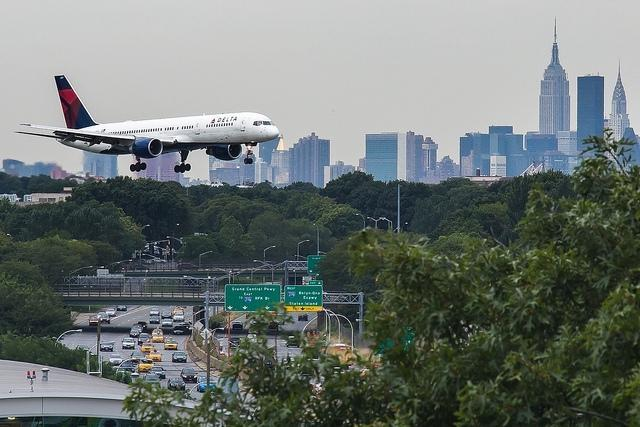car: (196, 376, 216, 392), (180, 366, 197, 382), (167, 376, 185, 390), (139, 358, 156, 371), (172, 351, 188, 363), (148, 350, 162, 362), (138, 332, 150, 346), (122, 338, 136, 350), (232, 320, 245, 332), (141, 342, 154, 354), (164, 340, 179, 350), (152, 334, 164, 342), (130, 329, 140, 337)
